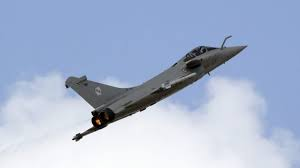maybay_muctieu: (62, 31, 246, 137)
